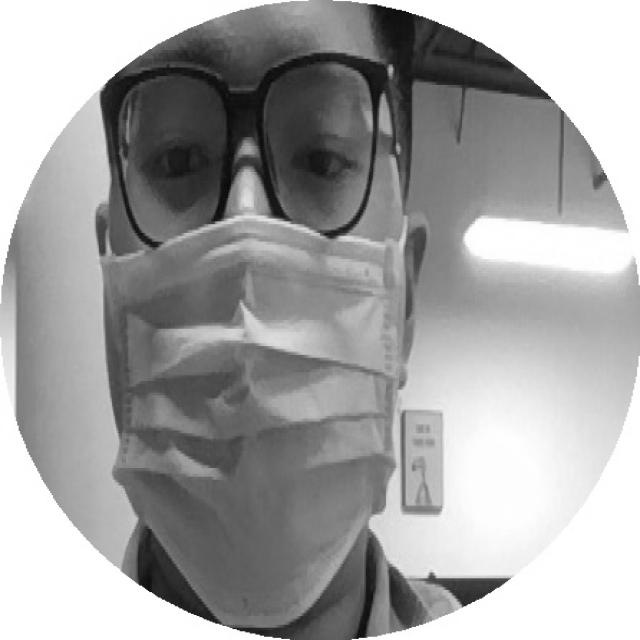fake: (87, 213, 409, 636)
real: (110, 84, 372, 202)
